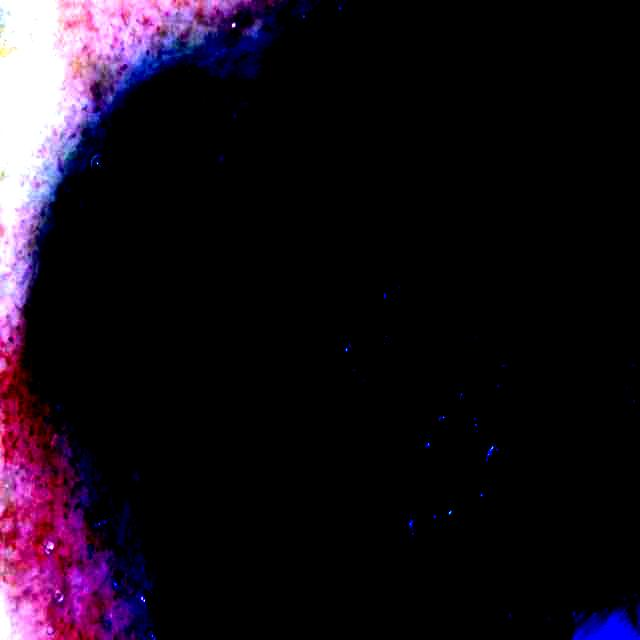MEL: (53, 1, 640, 640)
